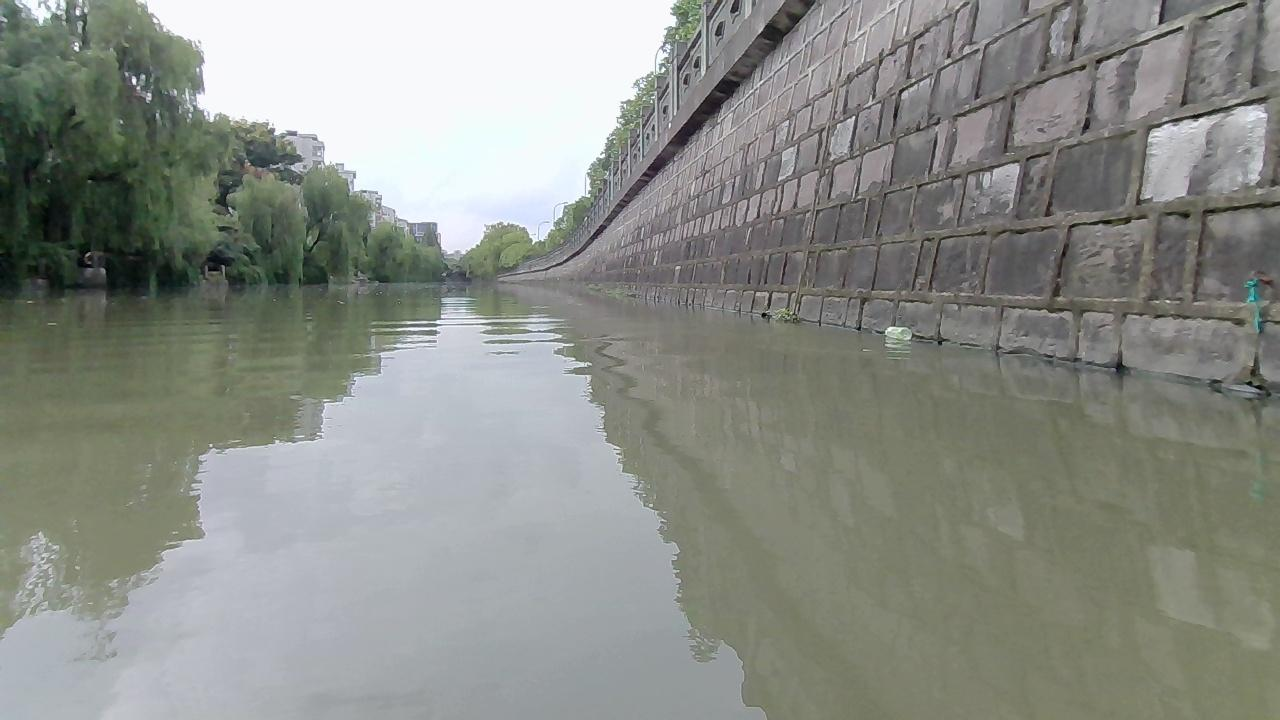bottle: (883, 325, 910, 339)
